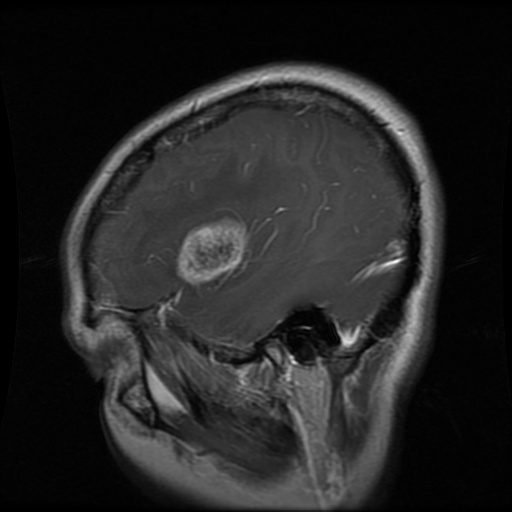glioma: (177, 218, 249, 285)
